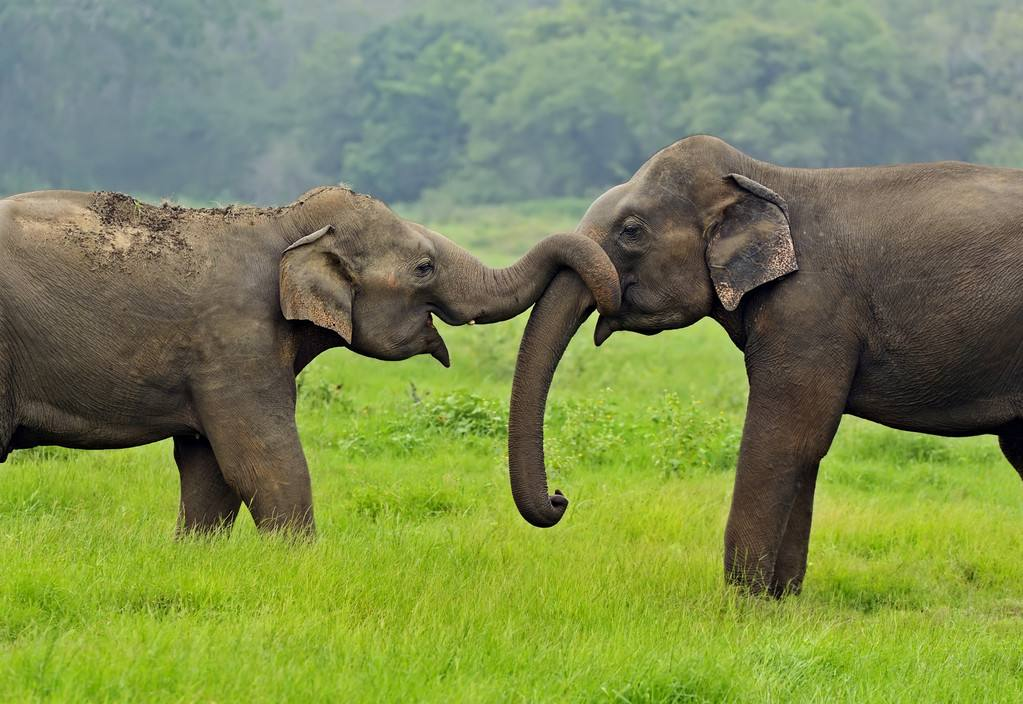elephant: (511, 135, 1023, 601), (4, 180, 619, 564)
